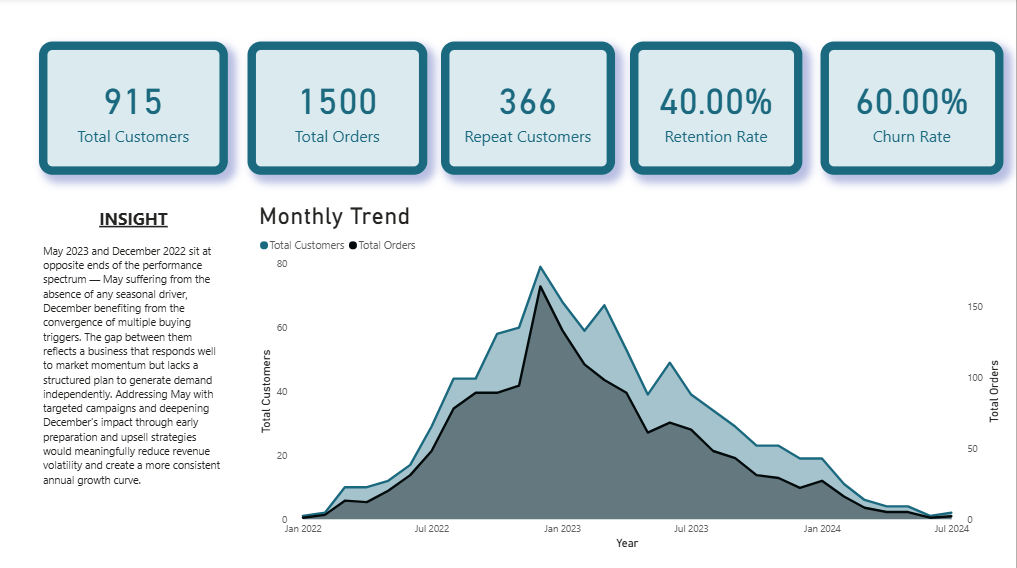

The dashboard page shown, as its layout file describes it:
{"tool":"powerbi","page":{"name":"Overview Dashboard","canvas":[1280,720],"ordinal":0},"visuals":[{"type":"card","fields":{"Values":["Fact_Orders.Total Customers"]},"box":[49.1,54.8,238.1,168.2],"z":0},{"type":"card","fields":{"Values":["Fact_Orders.Total Orders"]},"box":[311.8,54.8,226.8,168.2],"z":1000},{"type":"card","fields":{"Values":["Fact_Orders.Repeat Customers"]},"box":[555.6,54.8,219.2,168.2],"z":2000},{"type":"card","fields":{"Values":["Fact_Orders.Retention Rate"]},"box":[793.7,54.8,217.3,168.2],"z":3000},{"type":"card","fields":{"Values":["Fact_Orders.Churn Rate"]},"box":[1033.7,54.8,230.6,168.2],"z":4000},{"type":"areaChart","title":"Monthly Trend ","fields":{"Category":["Dim_Customers.Join_Date.Variation.Date Hierarchy.Year","Dim_Customers.Join_Date.Variation.Date Hierarchy.Month"],"Y":["Fact_Orders.Total Customers"],"Y2":["Fact_Orders.Total Orders"]},"box":[321.3,257,943,442.2],"z":5000},{"type":"textbox","box":[49,257,238,442],"z":6000}]}

Visuals, with their boxes in screenshot pixels (x1, y1, x2, y2), scaled from the page's 1280x720 canvas onto the 1017x568 screenshot:
card - Fact_Orders.Total Customers: 39,43,228,176
card - Fact_Orders.Total Orders: 248,43,428,176
card - Fact_Orders.Repeat Customers: 441,43,616,176
card - Fact_Orders.Retention Rate: 631,43,803,176
card - Fact_Orders.Churn Rate: 821,43,1005,176
"Monthly Trend " areaChart: 255,203,1005,552
textbox: 39,203,228,551
